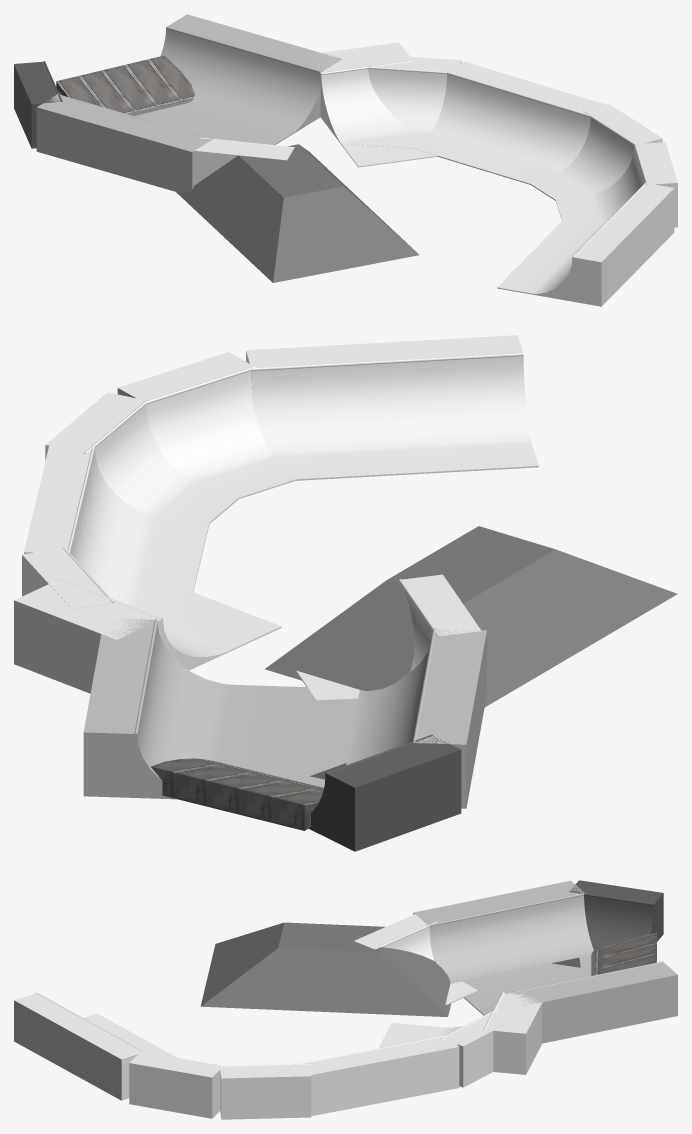
3 renders of one model, top to bottom at view 1: azimuth 30°, elevation 25°; view 2: azimuth 150°, elevation 25°; view 3: azimuth 270°, elevation 25°, orthographic. The views are drawn at different scales.
Visible parts, largest first — view 1: pyramid__2_, half_pipe_1, half_pipe, half_half_pipe__6_, half_half_pipe__2_, half_half_pipe__14_, half_half_pipe__8_, half_half_pipe__13_, half_half_pipe__12_, half_half_pipe__7_, half_half_pipe__11_, half_half_pipe (+6 smaller); view 2: pyramid__2_, half_pipe_1, half_pipe, half_half_pipe__8_, half_half_pipe__7_, half_half_pipe__11_, half_half_pipe__2_, half_half_pipe, half_half_pipe__13_, half_half_pipe__6_, half_half_pipe__14_, half_half_pipe__1_ (+6 smaller); view 3: pyramid__2_, half_pipe_1, half_pipe, half_half_pipe__13_, half_half_pipe__11_, half_half_pipe, half_half_pipe__14_, half_half_pipe__2_, half_half_pipe__7_, half_half_pipe__8_, half_half_pipe__6_, half_half_pipe__12_ (+4 smaller).
Boxes of the visible parts, bbox=[...] form: pyramid__2_: bbox=[176, 144, 419, 282]; half_pipe_1: bbox=[116, 36, 342, 193]; half_pipe: bbox=[36, 14, 266, 174]; half_half_pipe__6_: bbox=[466, 85, 606, 184]; half_half_pipe__2_: bbox=[309, 42, 437, 167]; half_half_pipe__14_: bbox=[398, 61, 542, 165]; half_half_pipe__8_: bbox=[497, 219, 638, 306]; half_half_pipe__13_: bbox=[515, 104, 662, 200]; half_half_pipe__12_: bbox=[348, 54, 461, 148]; half_half_pipe__7_: bbox=[534, 182, 674, 269]; half_half_pipe__11_: bbox=[553, 142, 677, 227]; half_half_pipe: bbox=[14, 61, 62, 148]; pyramid__2_: bbox=[265, 526, 677, 707]; half_pipe_1: bbox=[94, 619, 486, 748]; half_pipe: bbox=[83, 673, 476, 808]; half_half_pipe__8_: bbox=[379, 335, 538, 474]; half_half_pipe__7_: bbox=[246, 342, 400, 480]; half_half_pipe__11_: bbox=[117, 352, 295, 504]; half_half_pipe__2_: bbox=[14, 578, 281, 693]; half_half_pipe: bbox=[308, 734, 461, 851]; half_half_pipe__13_: bbox=[45, 392, 238, 538]; half_half_pipe__6_: bbox=[36, 442, 209, 571]; half_half_pipe__14_: bbox=[24, 493, 197, 621]; half_half_pipe__1_: bbox=[296, 574, 481, 700]; pyramid__2_: bbox=[200, 922, 451, 1017]; half_pipe_1: bbox=[413, 896, 601, 1043]; half_pipe: bbox=[490, 880, 677, 1031]; half_half_pipe__13_: bbox=[219, 1063, 311, 1119]; half_half_pipe__11_: bbox=[129, 1051, 223, 1118]; half_half_pipe: bbox=[552, 880, 663, 967]; half_half_pipe__14_: bbox=[366, 1035, 459, 1103]; half_half_pipe__2_: bbox=[378, 992, 542, 1074]; half_half_pipe__7_: bbox=[66, 1021, 176, 1100]; half_half_pipe__8_: bbox=[14, 992, 151, 1070]; half_half_pipe__6_: bbox=[294, 1049, 387, 1115]; half_half_pipe__12_: bbox=[415, 1009, 519, 1087].
Bounding box in the file's own units: 3771 × 401 × 5334.
